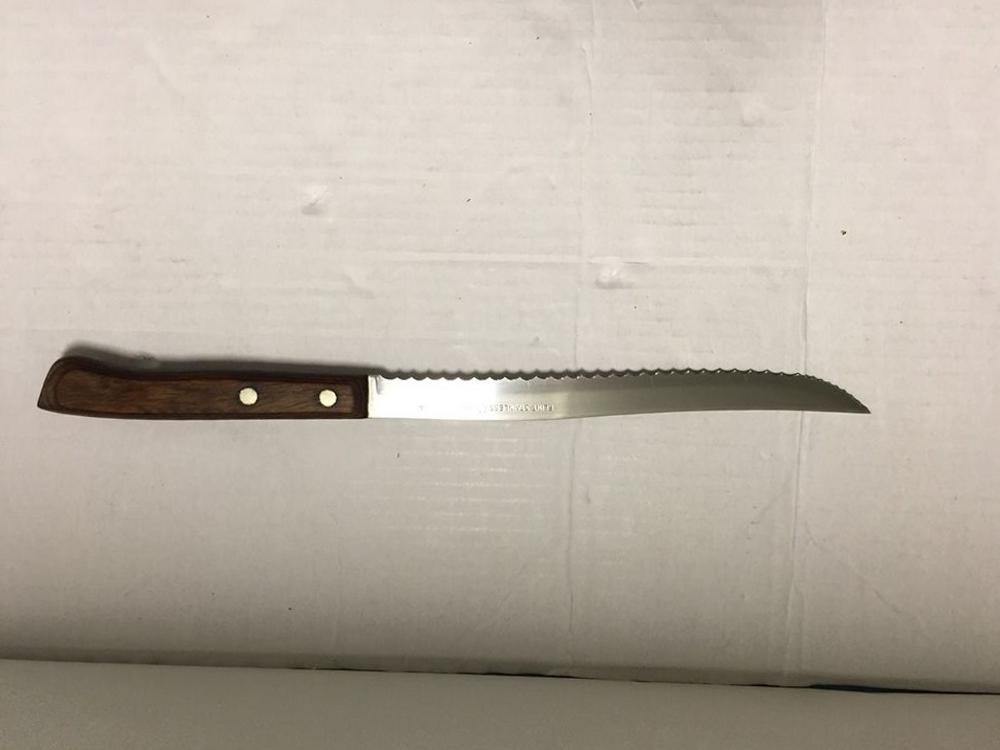knife: (38, 354, 878, 424)
